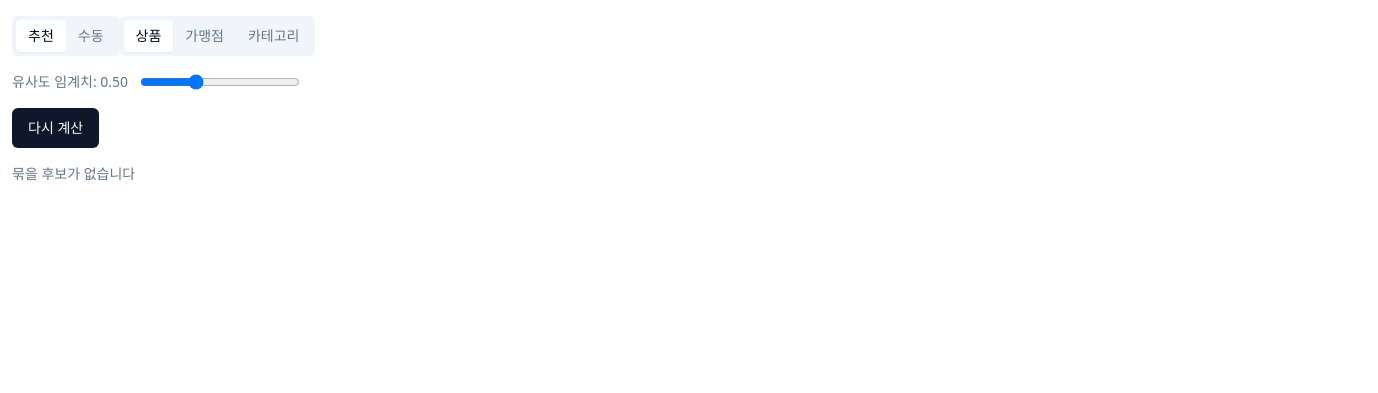
Scenario: ClusterTab — 카테고리 scope › 추천 모드에서 scope=category 응답을 파싱해 클러스터 카드를 렌더함
The width and height of the screenshot is (1378, 393).
Switch to 카테고리 scope
Click the tab "카테고리" at [274, 36], box [236,20,311,52]
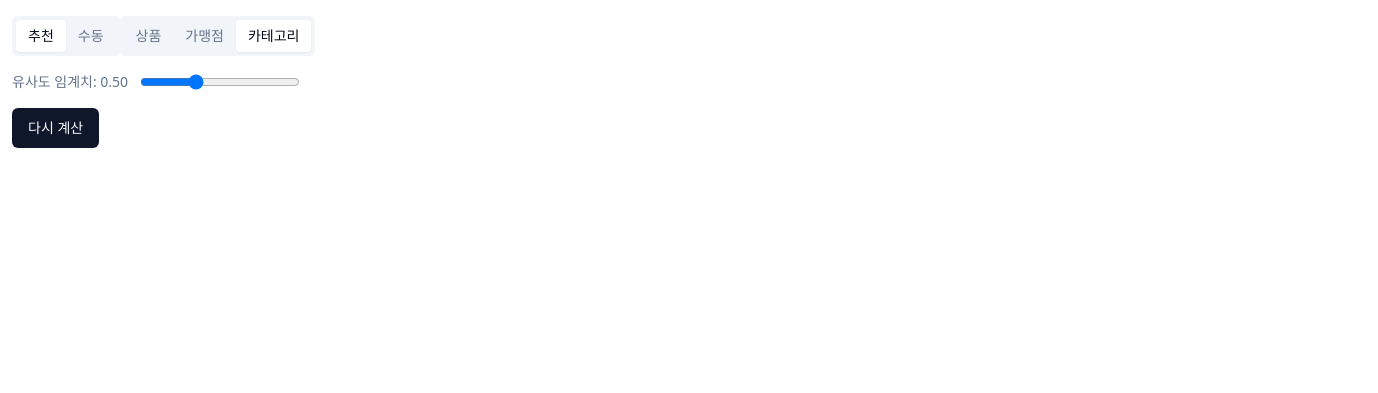
Trigger recommend fetch
Click the button "다시 계산" at [56, 128], box [12,108,99,148]
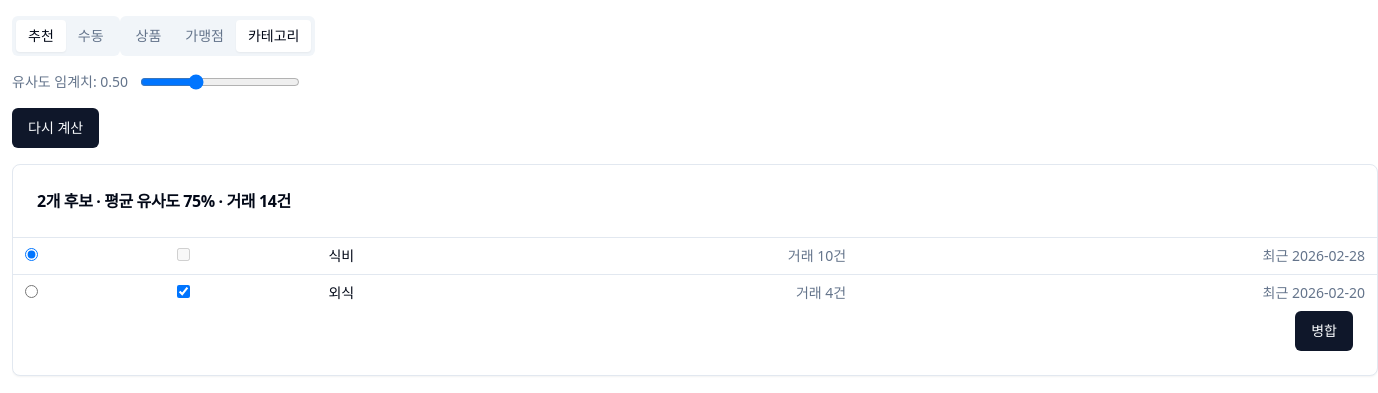
Expected: the text "식비" is shown, [316,238,521,274]
Expected: the text "외식" is shown, [316,274,521,311]
